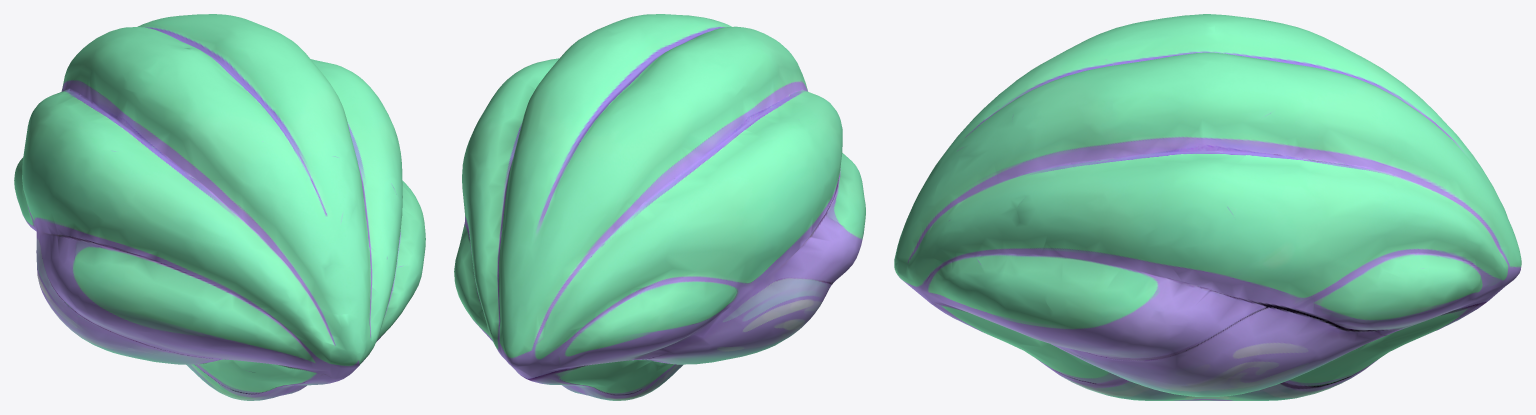
Rendered from static.glb.
3 views of the same model, side by side, from view 1: azimuth 30°, elevation 25°; view 2: azimuth 150°, elevation 25°; view 3: azimuth 270°, elevation 25° (orthographic). The views are drawn at different scales.
Parts seen in each view (by area): view 1: Mesh_0; view 2: Mesh_0; view 3: Mesh_0.
Part boxes in pixels (x1,y1,x2,y2): Mesh_0: [14, 14, 425, 400]; Mesh_0: [454, 14, 865, 400]; Mesh_0: [894, 14, 1521, 400].
Bounding box in the file's own units: 1.31 × 1.19 × 1.9.
1 material, 1 textured.
